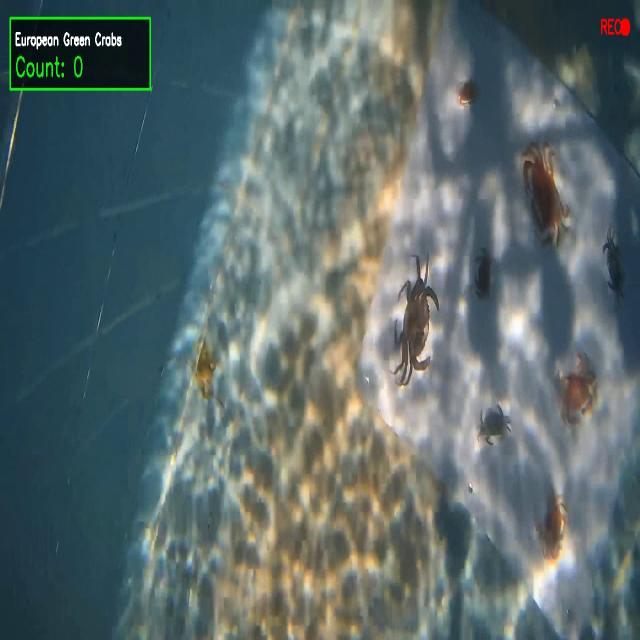European_Green_Crab: (389, 240, 444, 404), (598, 224, 627, 301), (475, 398, 512, 448)
